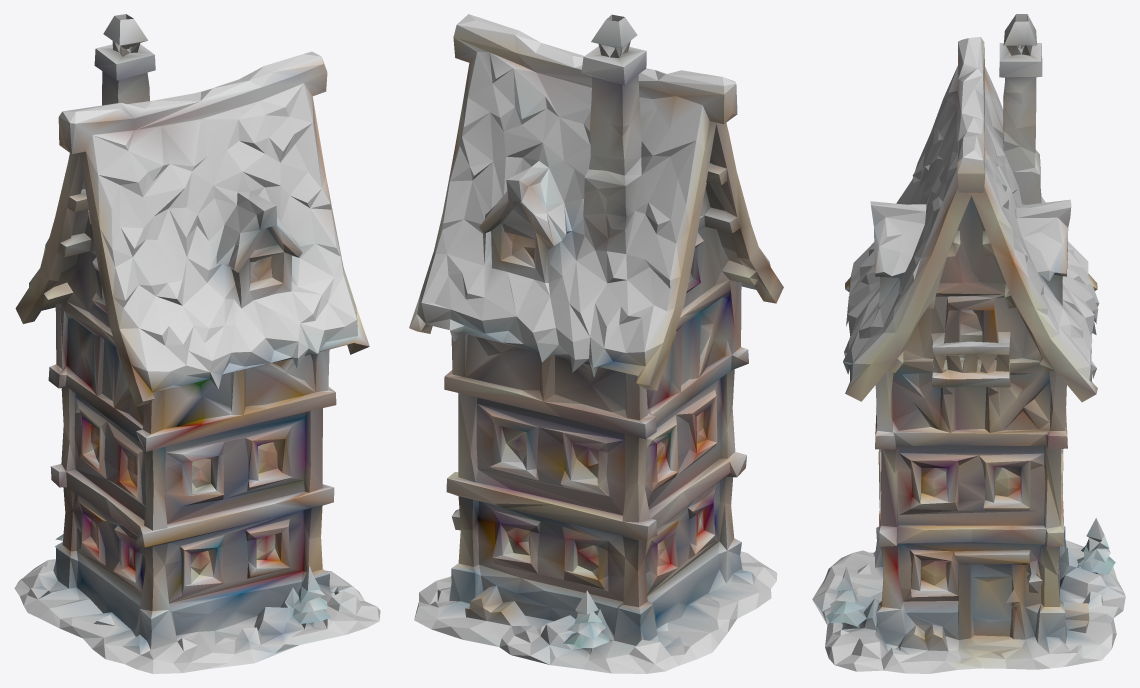
The model's file is gen-chalet.glb.
The picture shows the model from 3 angles, left to right: view 1: azimuth 30°, elevation 25°; view 2: azimuth 150°, elevation 25°; view 3: azimuth 270°, elevation 25°; orthographic projection. The views are drawn at different scales.
Visible parts, largest first — view 1: model; view 2: model; view 3: model.
Part boxes in pixels (x1=…): model: x1=14, y1=14, x2=380, y2=673; model: x1=409, y1=14, x2=783, y2=673; model: x1=812, y1=14, x2=1125, y2=673.
Bounding box in the file's own units: 4.45 × 9 × 4.48.
